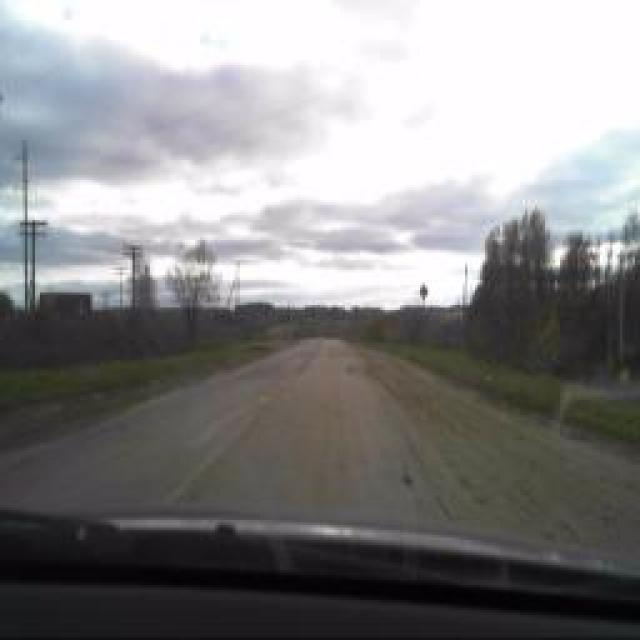sign: (419, 282, 429, 300)
